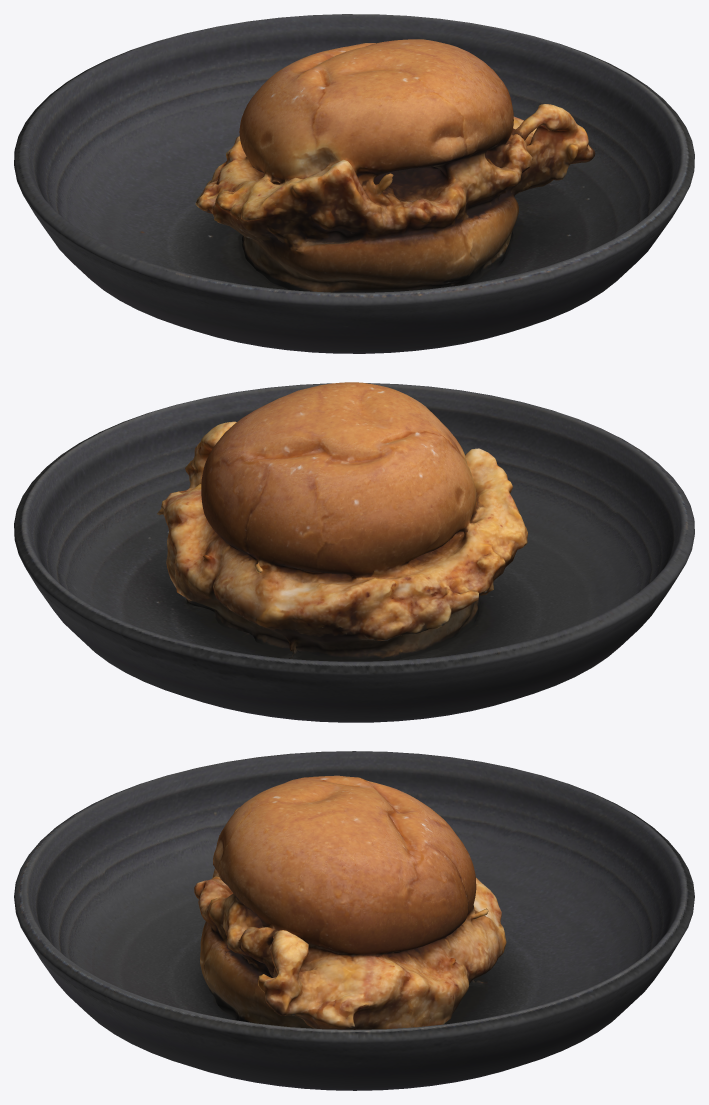
The model's file is Honey_Butter_chicken_sandwich.FBX.
3 renders of one model, top to bottom at view 1: azimuth 30°, elevation 25°; view 2: azimuth 150°, elevation 25°; view 3: azimuth 270°, elevation 25°, orthographic.
Visible parts, largest first — view 1: Honey Butter chicken sandwich; view 2: Honey Butter chicken sandwich; view 3: Honey Butter chicken sandwich.
Part boxes in pixels (x1=…): Honey Butter chicken sandwich: x1=14, y1=14, x2=694, y2=353; Honey Butter chicken sandwich: x1=14, y1=382, x2=694, y2=722; Honey Butter chicken sandwich: x1=14, y1=751, x2=694, y2=1090.
Size of the model in its own units: 4.33 by 1.45 by 4.33.
1 material, 1 textured.
